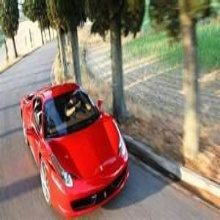no damage: (18, 83, 131, 218)
